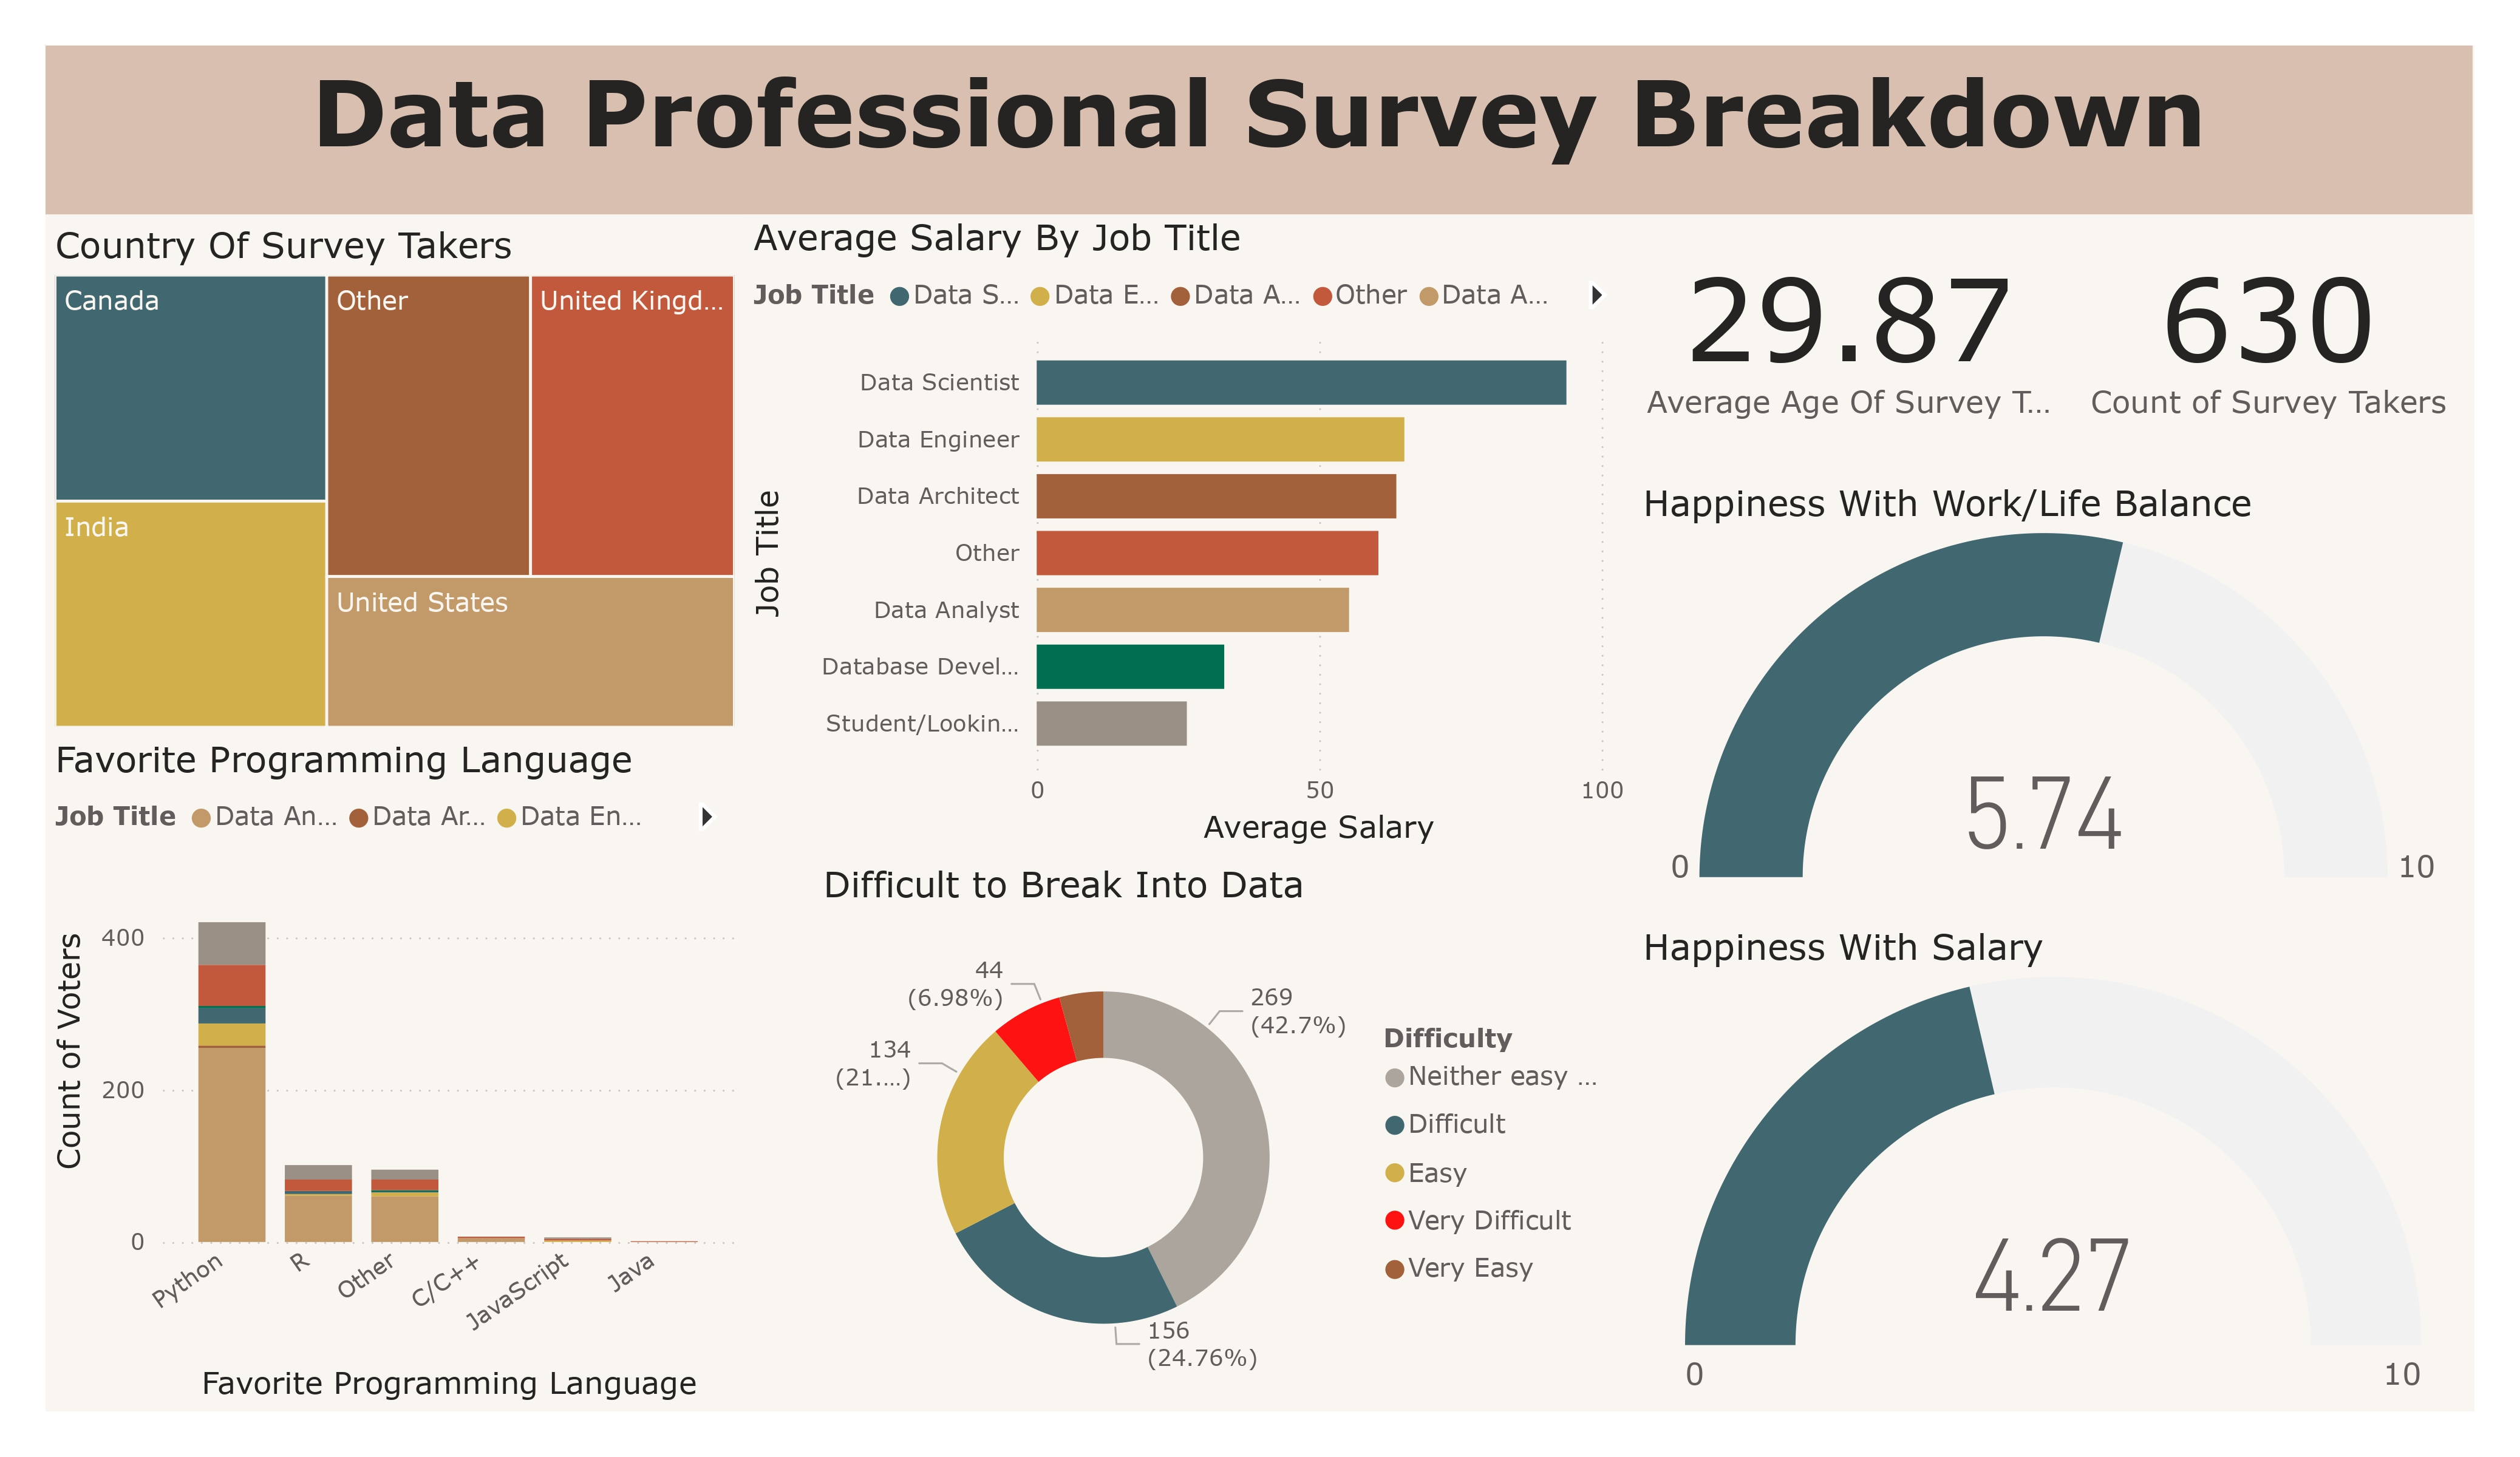

This screenshot's page, from the dashboard's own definition file:
{"tool":"powerbi","page":{"name":"Page 1","canvas":[1280,720],"ordinal":0},"visuals":[{"type":"textbox","box":[0,0,1279.4,88.8],"z":0},{"type":"card","fields":{"Values":["Count(Data Professional Survey.Unique ID)"]},"box":[1064.4,88.9,214.9,121.9],"z":1},{"type":"card","fields":{"Values":["Avg(Data Professional Survey.Q10 - Current Age)"]},"box":[837,88.9,227.3,121.9],"z":2},{"type":"barChart","title":"Average Salary By Job Title","fields":{"Category":["Data Professional Survey.Q1 - Which Title Best Fits your Current Role?.1"],"Y":["Avg(Data Professional Survey.Average Salary)"],"Series":["Data Professional Survey.Q1 - Which Title Best Fits your Current Role?.1"]},"box":[367.9,88.9,469.2,336.9],"z":3},{"type":"columnChart","title":"Favorite Programming Language","fields":{"Category":["Data Professional Survey.Q5 - Favorite Programming Language.1"],"Y":["CountNonNull(Data Professional Survey.Unique ID)"],"Series":["Data Professional Survey.Q1 - Which Title Best Fits your Current Role?.1"]},"box":[0,363.7,367.9,355.5],"z":4},{"type":"treemap","title":"Country Of Survey Takers","fields":{"Group":["Data Professional Survey.Q11 - Which Country do you live in?.1"],"Values":["Count(Data Professional Survey.Q11 - Which Country do you live in?.1)"]},"box":[0,93,367.9,270.7],"z":5},{"type":"gauge","title":"Happiness With Work/Life Balance","fields":{"Y":["Avg(Data Professional Survey.Q6 - How Happy are you in your Current Position with the following? (Work/Life Balance))"],"MinValue":["Min(Data Professional Survey.Q6 - How Happy are you in your Current Position with the following? (Work/Life Balance))1"],"MaxValue":["Max(Data Professional Survey.Q6 - How Happy are you in your Current Position with the following? (Work/Life Balance))2"]},"box":[837,229.4,442.3,219.1],"z":6},{"type":"gauge","title":"Happiness With Salary","fields":{"Y":["Avg(Data Professional Survey.Q6 - How Happy are you in your Current Position with the following? (Salary))"],"MinValue":["Min(Data Professional Survey.Q6 - How Happy are you in your Current Position with the following? (Salary))"],"MaxValue":["Max(Data Professional Survey.Q6 - How Happy are you in your Current Position with the following? (Salary))"]},"box":[837,463,442.3,256.3],"z":7},{"type":"donutChart","title":"Difficult to Break Into Data","fields":{"Category":["Data Professional Survey.Q7 - How difficult was it for you to break into Data?"],"Y":["CountNonNull(Data Professional Survey.Q7 - How difficult was it for you to break into Data?)"]},"box":[405.1,429.9,432,289.3],"z":8}]}

Visuals, with their boxes in screenshot pixels (x1, y1, x2, y2):
textbox: [46,46,2473,214]
card - Count(Data Professional Survey.Unique ID): [2065,214,2473,446]
card - Avg(Data Professional Survey.Q10 - Current Age): [1634,214,2065,446]
"Average Salary By Job Title" barChart: [744,214,1634,854]
"Favorite Programming Language" columnChart: [46,736,744,1410]
"Country Of Survey Takers" treemap: [46,222,744,736]
"Happiness With Work/Life Balance" gauge: [1634,481,2473,897]
"Happiness With Salary" gauge: [1634,924,2473,1410]
"Difficult to Break Into Data" donutChart: [814,861,1634,1410]
